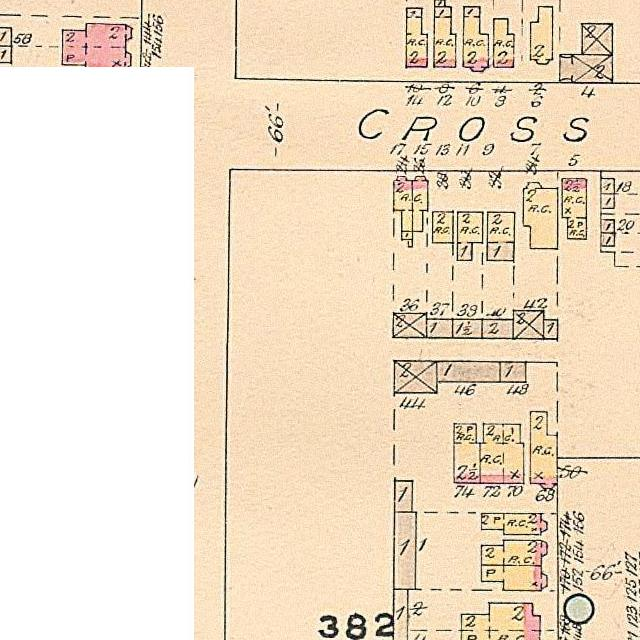building-footprints: (62, 24, 131, 67), (461, 603, 540, 640), (479, 424, 524, 483), (523, 183, 557, 249), (530, 412, 557, 488), (481, 540, 547, 566), (481, 565, 547, 591), (453, 423, 480, 483), (394, 512, 415, 589), (463, 7, 488, 71), (561, 179, 586, 239), (560, 55, 612, 83), (481, 513, 546, 535), (394, 360, 436, 393), (433, 7, 456, 67), (436, 361, 499, 382), (487, 212, 513, 261), (530, 7, 552, 64), (457, 212, 483, 260), (406, 8, 427, 67), (393, 176, 412, 232), (493, 19, 514, 67), (581, 24, 612, 55), (513, 310, 543, 339), (393, 313, 426, 338), (412, 177, 427, 231), (393, 589, 407, 640), (432, 211, 453, 243), (482, 319, 513, 339), (394, 481, 412, 512), (453, 319, 482, 338), (500, 362, 526, 382), (426, 319, 453, 338), (543, 319, 557, 339), (600, 179, 614, 194), (0, 28, 11, 46), (600, 194, 614, 208), (600, 219, 614, 233), (600, 233, 614, 246), (0, 46, 11, 62), (401, 232, 412, 239), (434, 0, 445, 6), (0, 63, 11, 67)
